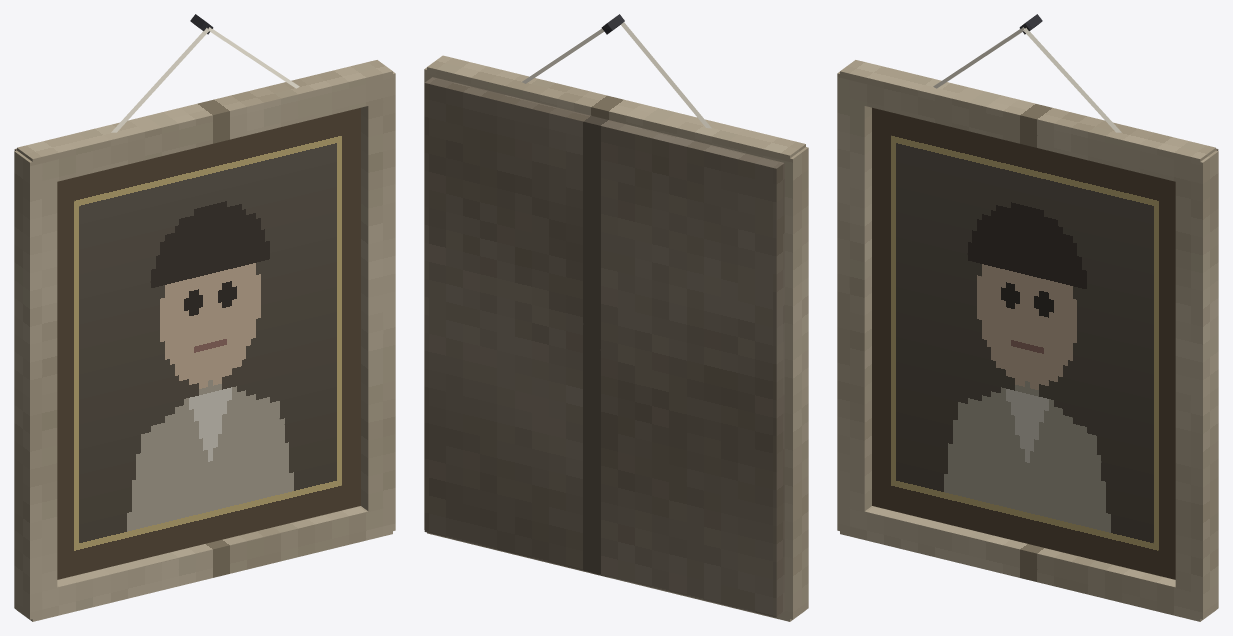
File: painting_portrait.glb
The picture shows the model from 3 angles, left to right: view 1: azimuth 30°, elevation 25°; view 2: azimuth 150°, elevation 25°; view 3: azimuth 330°, elevation 25°; orthographic projection.
Visible parts, largest first — view 1: body; view 2: body; view 3: body.
Part boxes in pixels (<box>): body: <box>14,14,395,621</box>; body: <box>424,14,808,621</box>; body: <box>837,14,1218,621</box>.
Size of the model in its own units: 0.67 by 0.965 by 0.075.
Materials: 5 (4 with a texture image).
